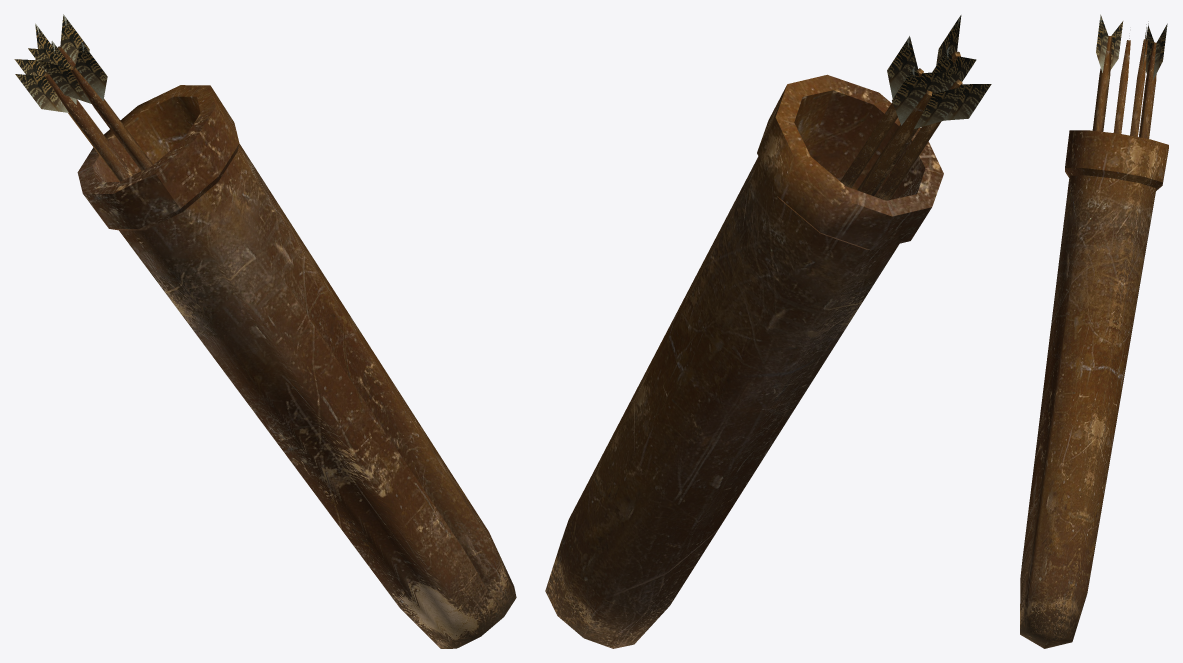
Rendered from Carcaj.fbx.
The picture shows the model from 3 angles, left to right: view 1: azimuth 30°, elevation 25°; view 2: azimuth 150°, elevation 25°; view 3: azimuth 270°, elevation 25°; orthographic projection. The views are drawn at different scales.
Parts seen in each view (by area): view 1: Carcaj, Arrows; view 2: Carcaj, Arrows; view 3: Carcaj, Arrows.
Boxes of the visible parts, x1,y1,x2,y2 form: Carcaj: (77,85,516,648); Arrows: (14,14,153,181); Carcaj: (545,74,943,648); Arrows: (840,15,991,200); Carcaj: (1020,130,1168,648); Arrows: (1092,14,1167,138).
Bounding box in the file's own units: 30.58 × 43.54 × 11.6.
